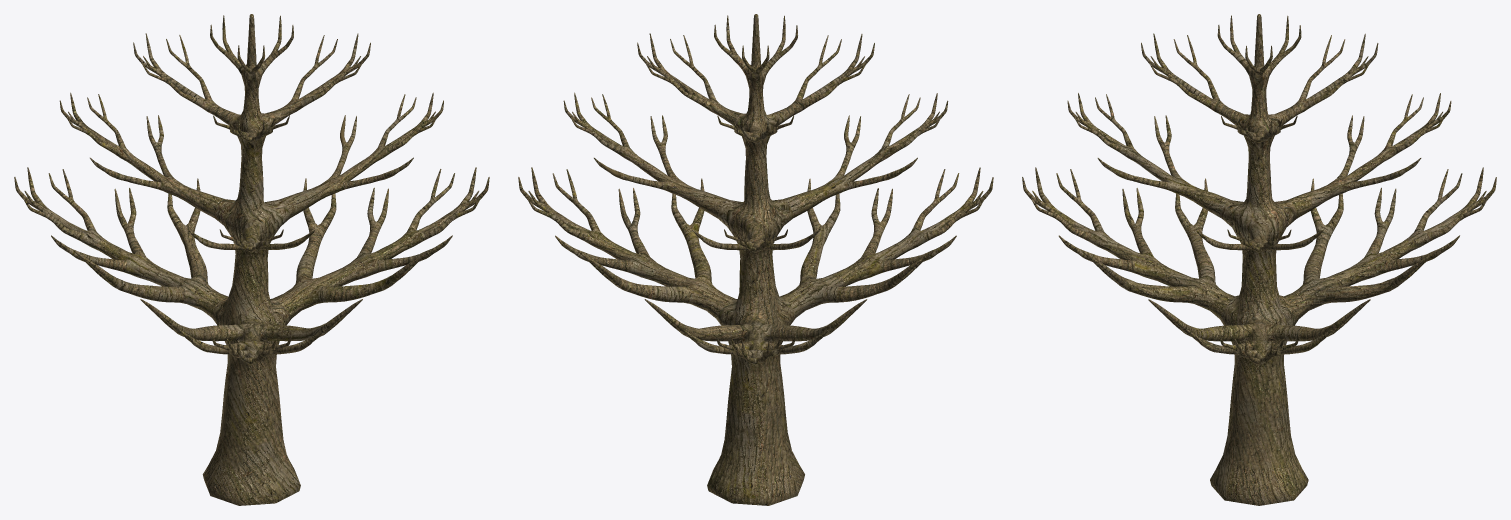
The model's file is Breathing_Tree.fbx.
The picture shows the model from 3 angles, left to right: view 1: azimuth 30°, elevation 25°; view 2: azimuth 150°, elevation 25°; view 3: azimuth 270°, elevation 25°; orthographic projection.
Visible parts, largest first — view 1: Breath Tree Backup; view 2: Breath Tree Backup; view 3: Breath Tree Backup.
Part boxes in pixels (left/top/right/bottom): Breath Tree Backup: left=14, top=14, right=489, bottom=505; Breath Tree Backup: left=518, top=14, right=993, bottom=505; Breath Tree Backup: left=1022, top=14, right=1496, bottom=505.
Size of the model in its own units: 4999 by 6102 by 5566.
